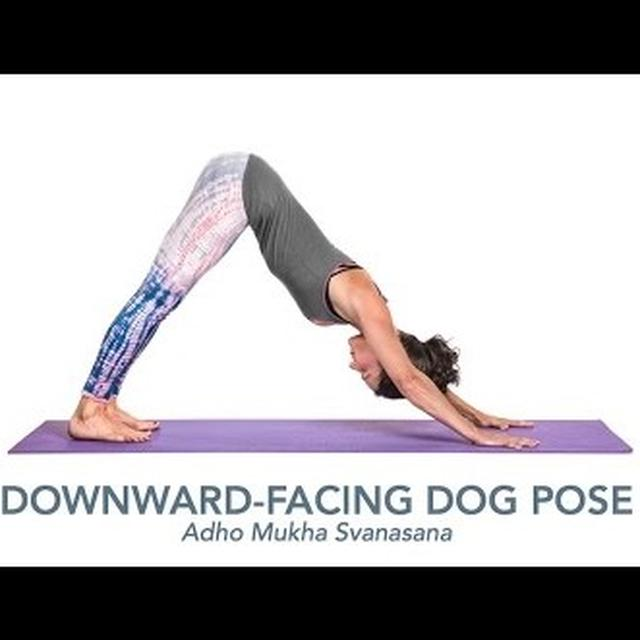Downward-Facing_Dog: (65, 144, 542, 455)
